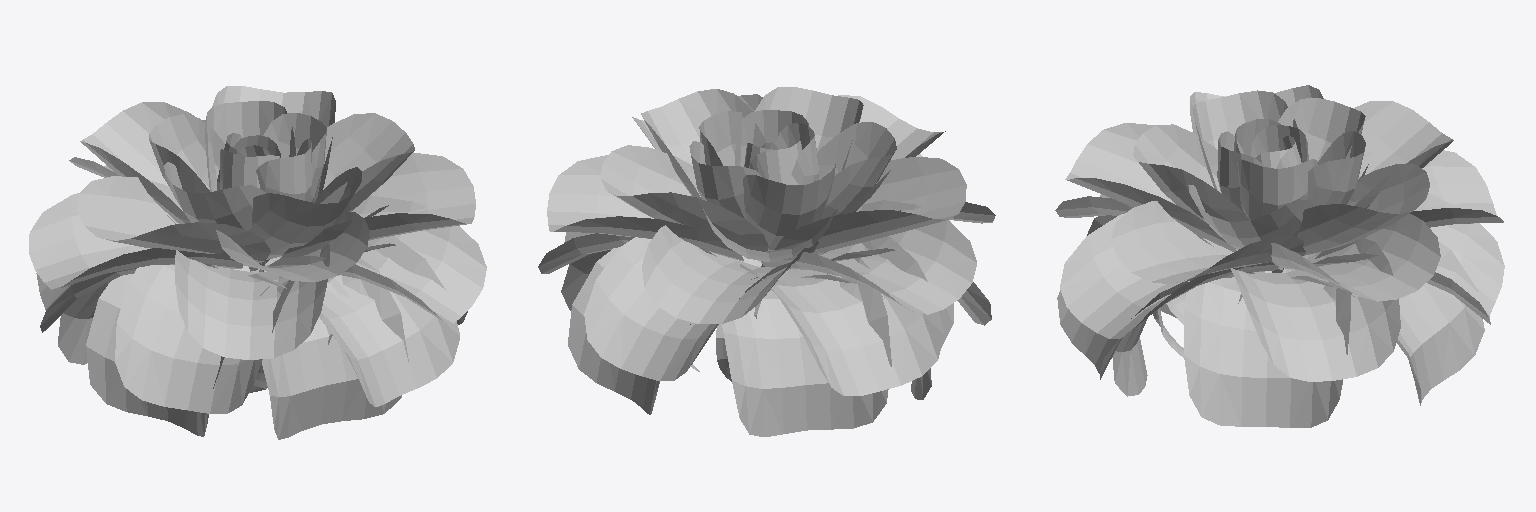
Rendered from FlowerTopModel_03_seq_0054.obj.
3 views of the same model, side by side, from view 1: azimuth 30°, elevation 25°; view 2: azimuth 150°, elevation 25°; view 3: azimuth 270°, elevation 25° (orthographic).
Visible parts, largest first — view 1: FlowerTopModel_03; view 2: FlowerTopModel_03; view 3: FlowerTopModel_03.
Boxes of the visible parts, <box> form: FlowerTopModel_03: <box>29,86,486,439</box>; FlowerTopModel_03: <box>538,87,995,436</box>; FlowerTopModel_03: <box>1055,85,1504,427</box>.
Bounding box in the file's own units: 942 × 542 × 914.